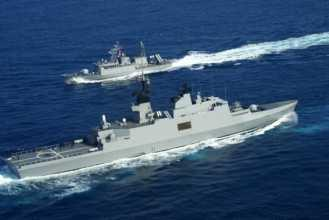warship: (6, 76, 299, 183), (67, 37, 181, 87)
